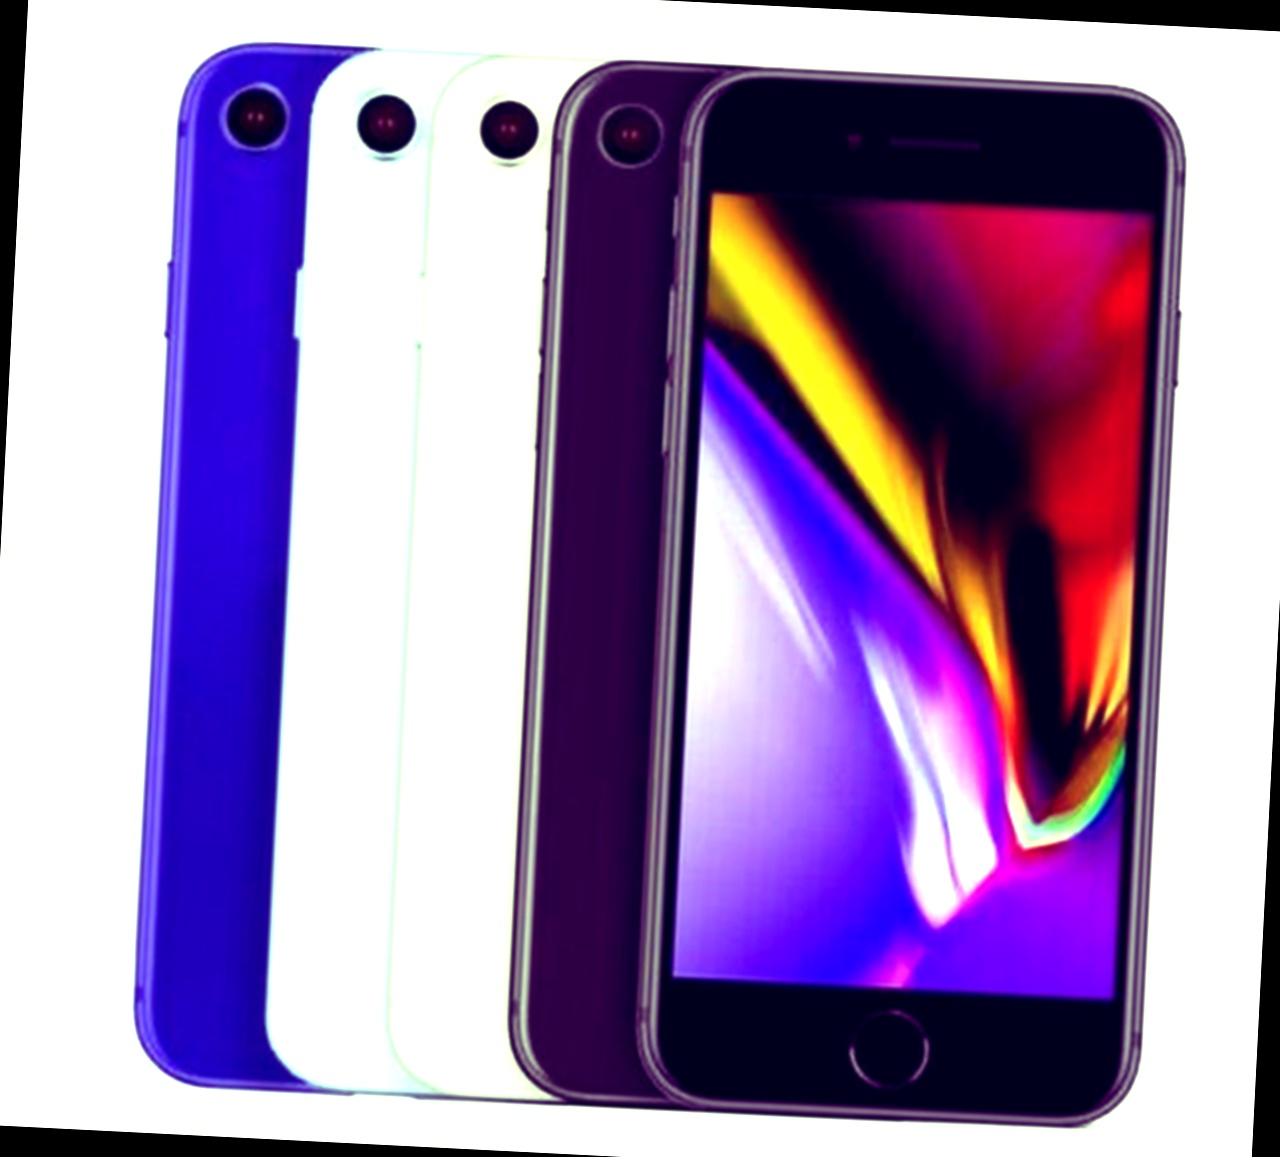iphone: (652, 62, 1171, 1109)
